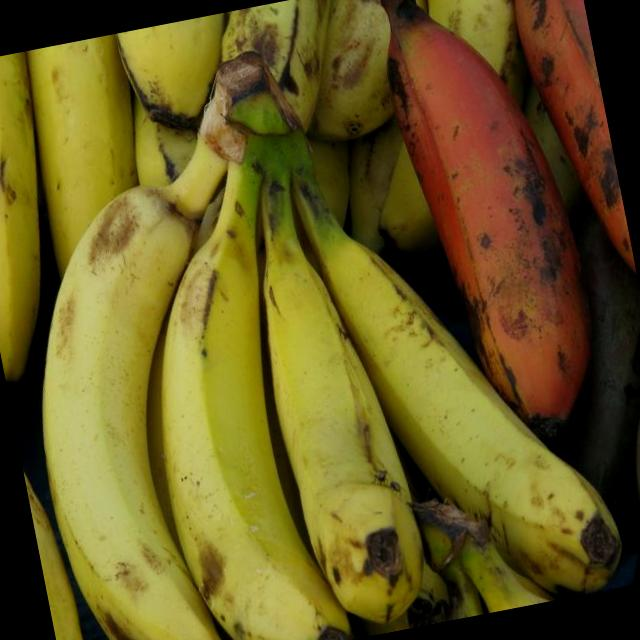Banana: (0, 2, 634, 640), (369, 0, 609, 440)
